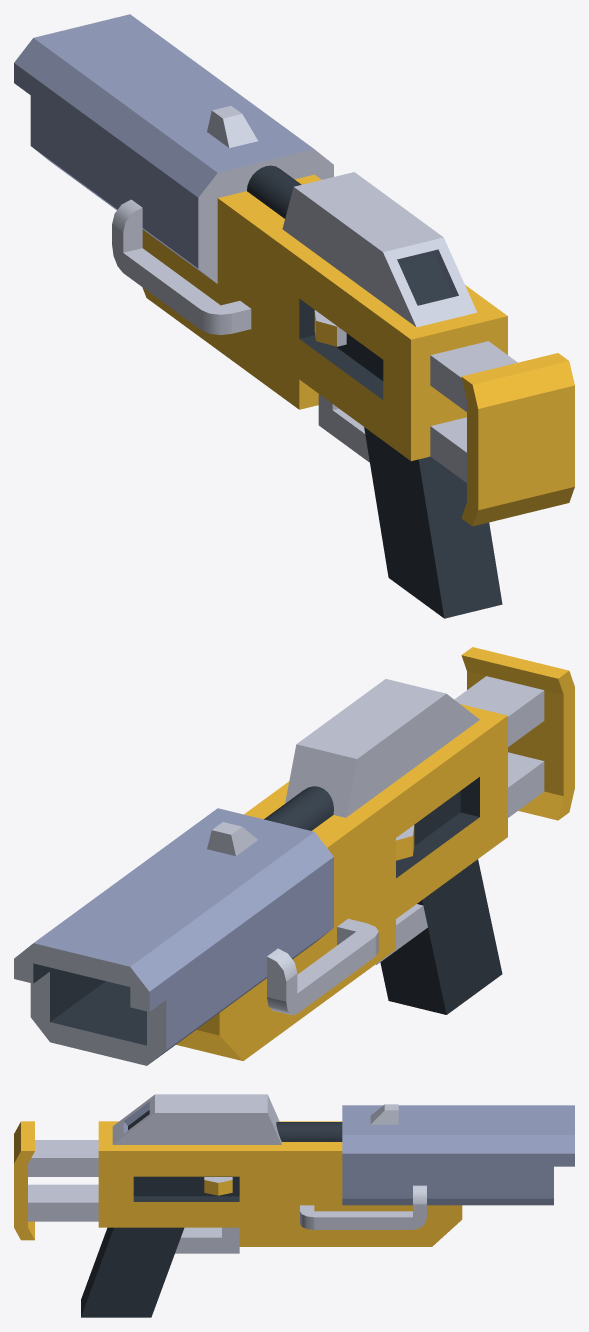
The model's file is blasterG.fbx.
The picture shows the model from 3 angles, top to bottom: view 1: azimuth 30°, elevation 25°; view 2: azimuth 150°, elevation 25°; view 3: azimuth 270°, elevation 25°; orthographic projection. The views are drawn at different scales.
Visible parts, largest first — view 1: blasterG; view 2: blasterG; view 3: blasterG.
Boxes of the visible parts, <box> form: blasterG: <box>14,14,574,618</box>; blasterG: <box>14,647,574,1065</box>; blasterG: <box>14,1094,574,1317</box>.
Bounding box in the file's own units: 1.8 × 3.2 × 7.96.
